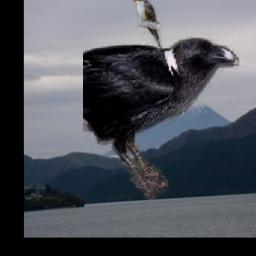Crow: (83, 38, 239, 201)
Cuckoo: (133, 0, 163, 50)
